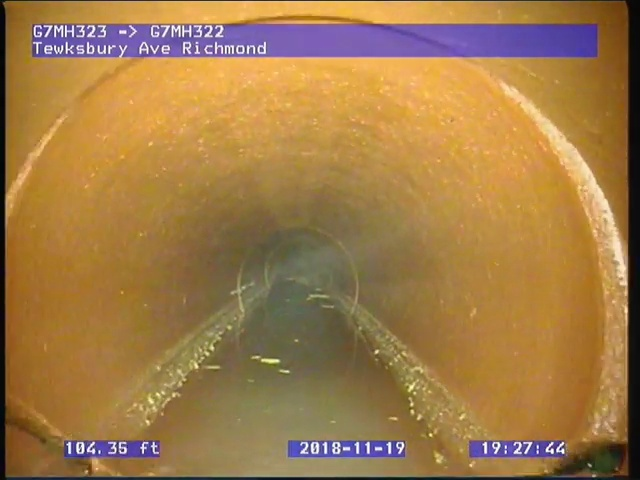crack: (7, 395, 132, 477), (520, 439, 630, 477)
